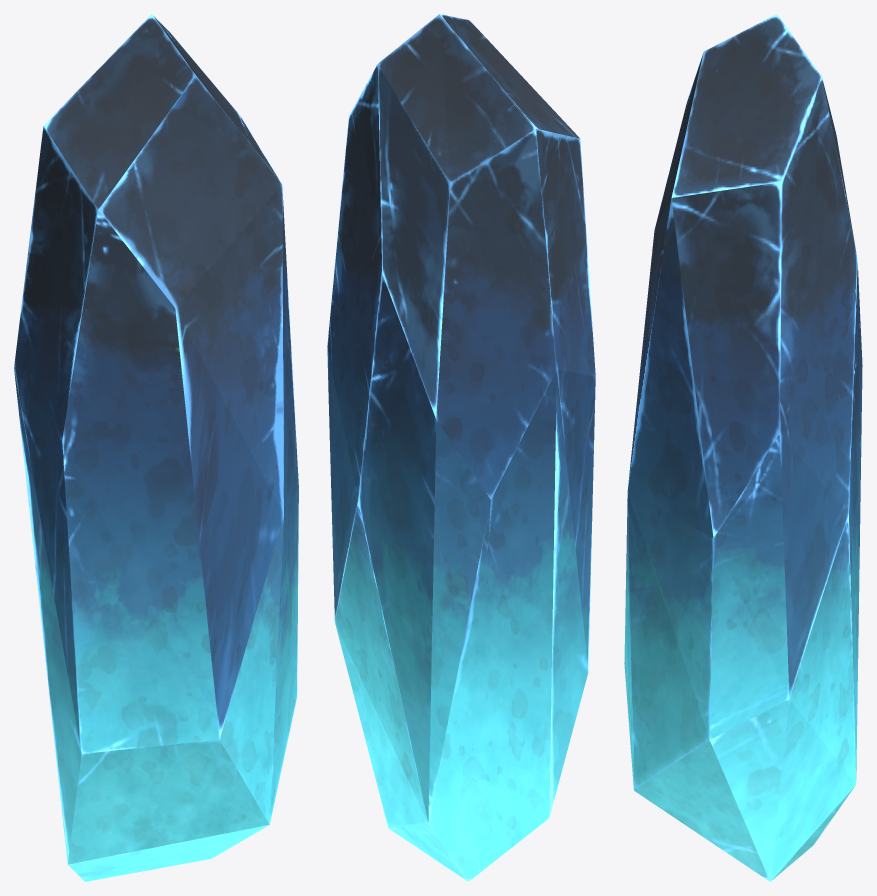
File: Enchanted Crystal.fbx
The picture shows the model from 3 angles, left to right: view 1: azimuth 30°, elevation 25°; view 2: azimuth 150°, elevation 25°; view 3: azimuth 270°, elevation 25°; orthographic projection. The views are drawn at different scales.
Parts seen in each view (by area): view 1: Crystal_low; view 2: Crystal_low; view 3: Crystal_low.
Part boxes in pixels (bbox=[...]): Crystal_low: bbox=[14, 14, 298, 881]; Crystal_low: bbox=[327, 14, 595, 881]; Crystal_low: bbox=[624, 14, 862, 881].
Bounding box in the file's own units: 74.62 × 64.14 × 254.
